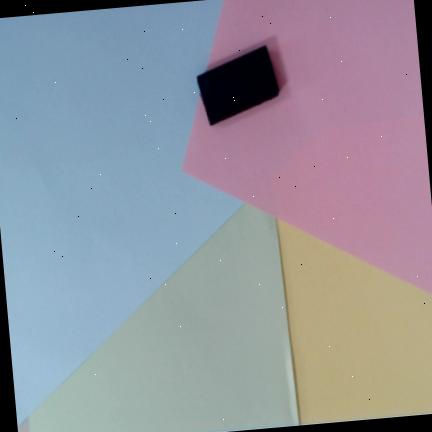Paralelepipedo: (197, 44, 280, 126)
